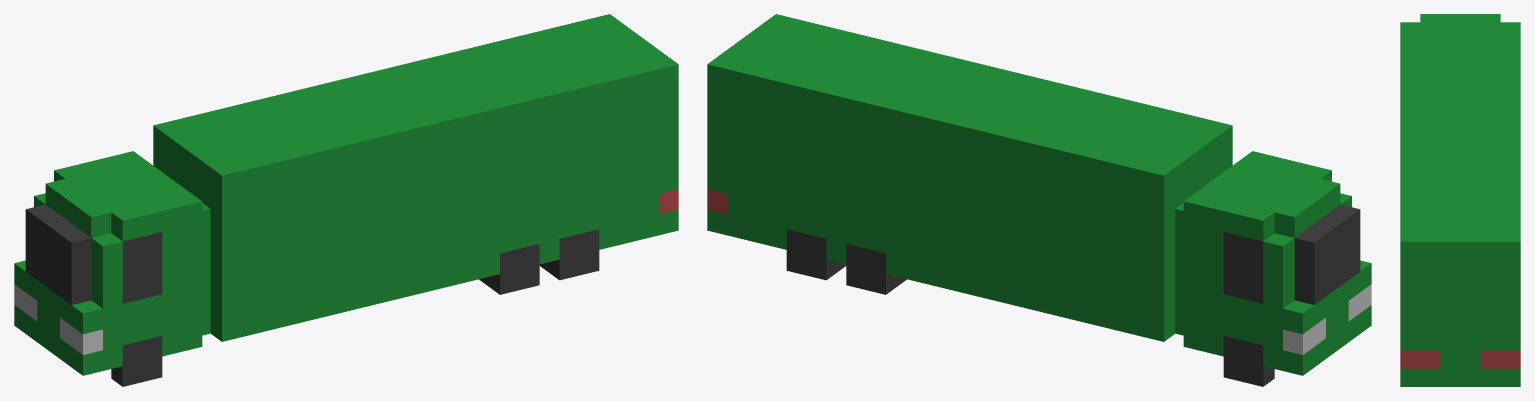
File: truck-v4-green.gltf
3 renders of one model, left to right at view 1: azimuth 30°, elevation 25°; view 2: azimuth 150°, elevation 25°; view 3: azimuth 270°, elevation 25°, orthographic. The views are drawn at different scales.
Parts seen in each view (by area): view 1: model, wheels; view 2: model, wheels; view 3: model.
Part boxes in pixels (box(x1,y1,x2,y2)): model: box(14, 14, 678, 375); wheels: box(111, 229, 599, 386); model: box(707, 14, 1371, 375); wheels: box(786, 229, 1274, 386); model: box(1400, 14, 1520, 386).
Size of the model in its own units: 3 by 0.9 by 0.6.
Materials: 2 (2 with a texture image).
